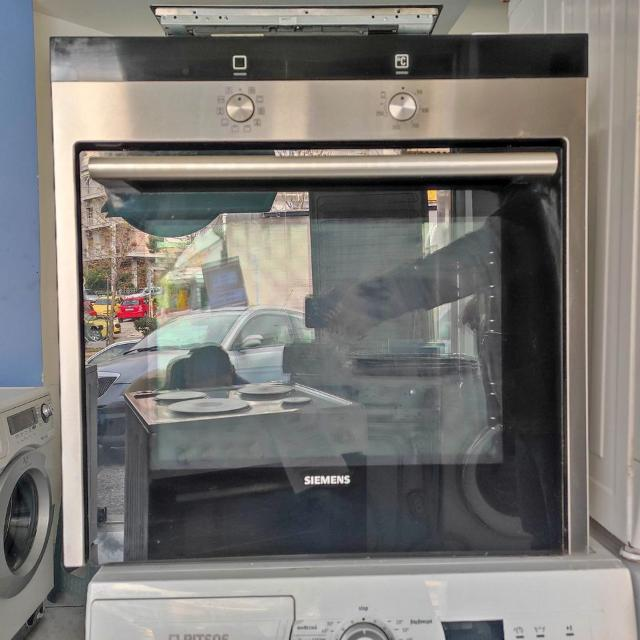Oven: (49, 28, 590, 554)
